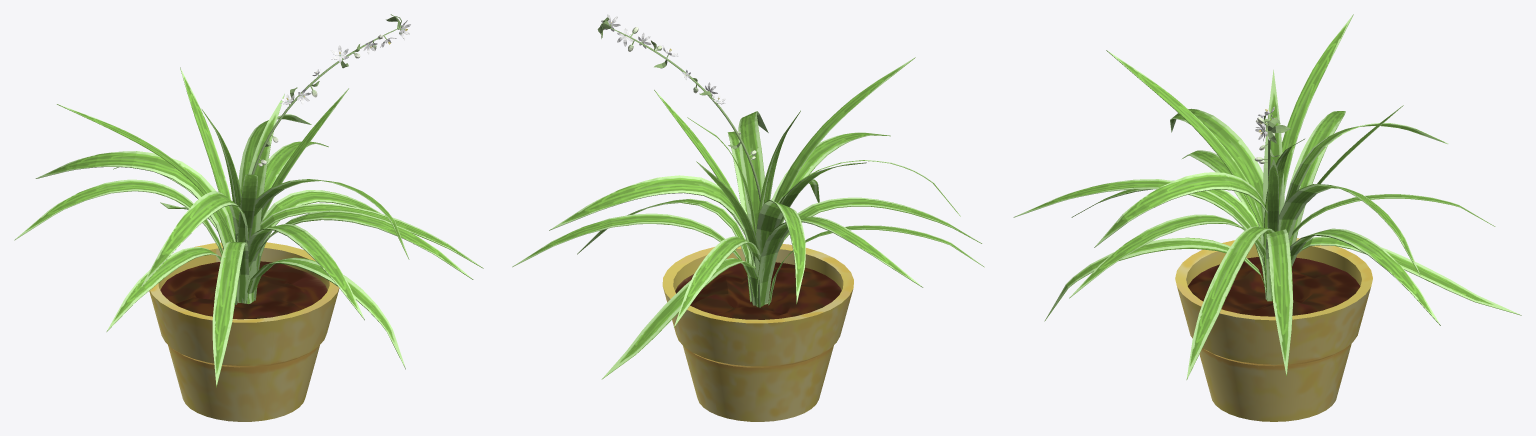
Rendered from Chlorophytum_good_Perfect_Flowers.glb.
The picture shows the model from 3 angles, left to right: view 1: azimuth 30°, elevation 25°; view 2: azimuth 150°, elevation 25°; view 3: azimuth 270°, elevation 25°; orthographic projection. The views are drawn at different scales.
Parts seen in each view (by area): view 1: Plant, Pot; view 2: Plant, Pot; view 3: Plant, Pot.
Boxes of the visible parts, x1,y1,x2,y2 form: Plant: (14, 14, 483, 387); Pot: (149, 242, 339, 421); Plant: (512, 14, 984, 379); Pot: (662, 244, 853, 421); Plant: (1013, 14, 1521, 379); Pot: (1175, 238, 1372, 421).
Size of the model in its own units: 4.83 by 4.03 by 5.26.
25 materials, 24 textured.
